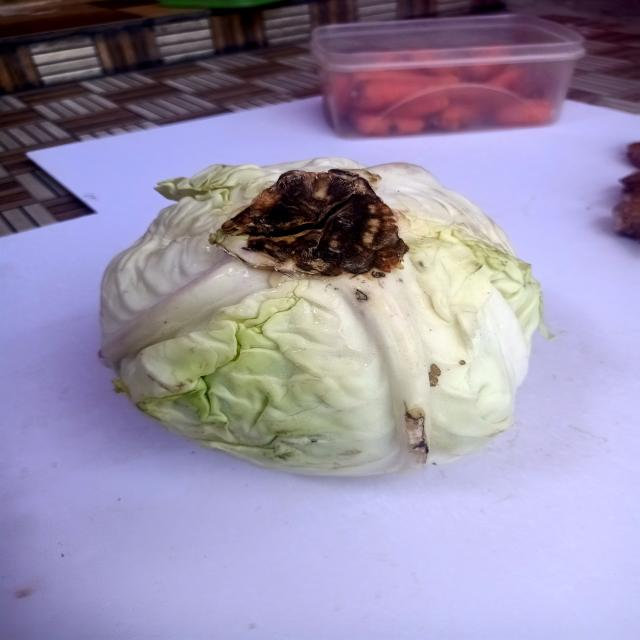Cabbage: (84, 149, 570, 487)
